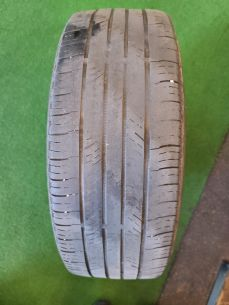bad_condition: (47, 8, 185, 279)
